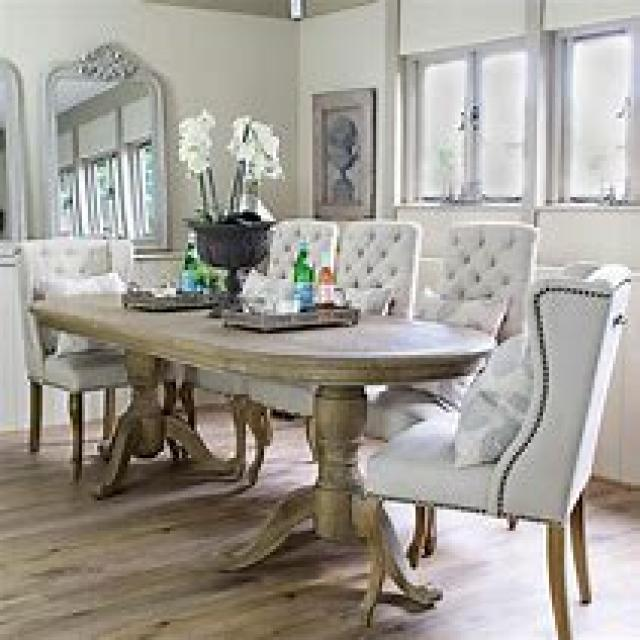chair: (358, 261, 631, 637)
table: (28, 285, 498, 622)
